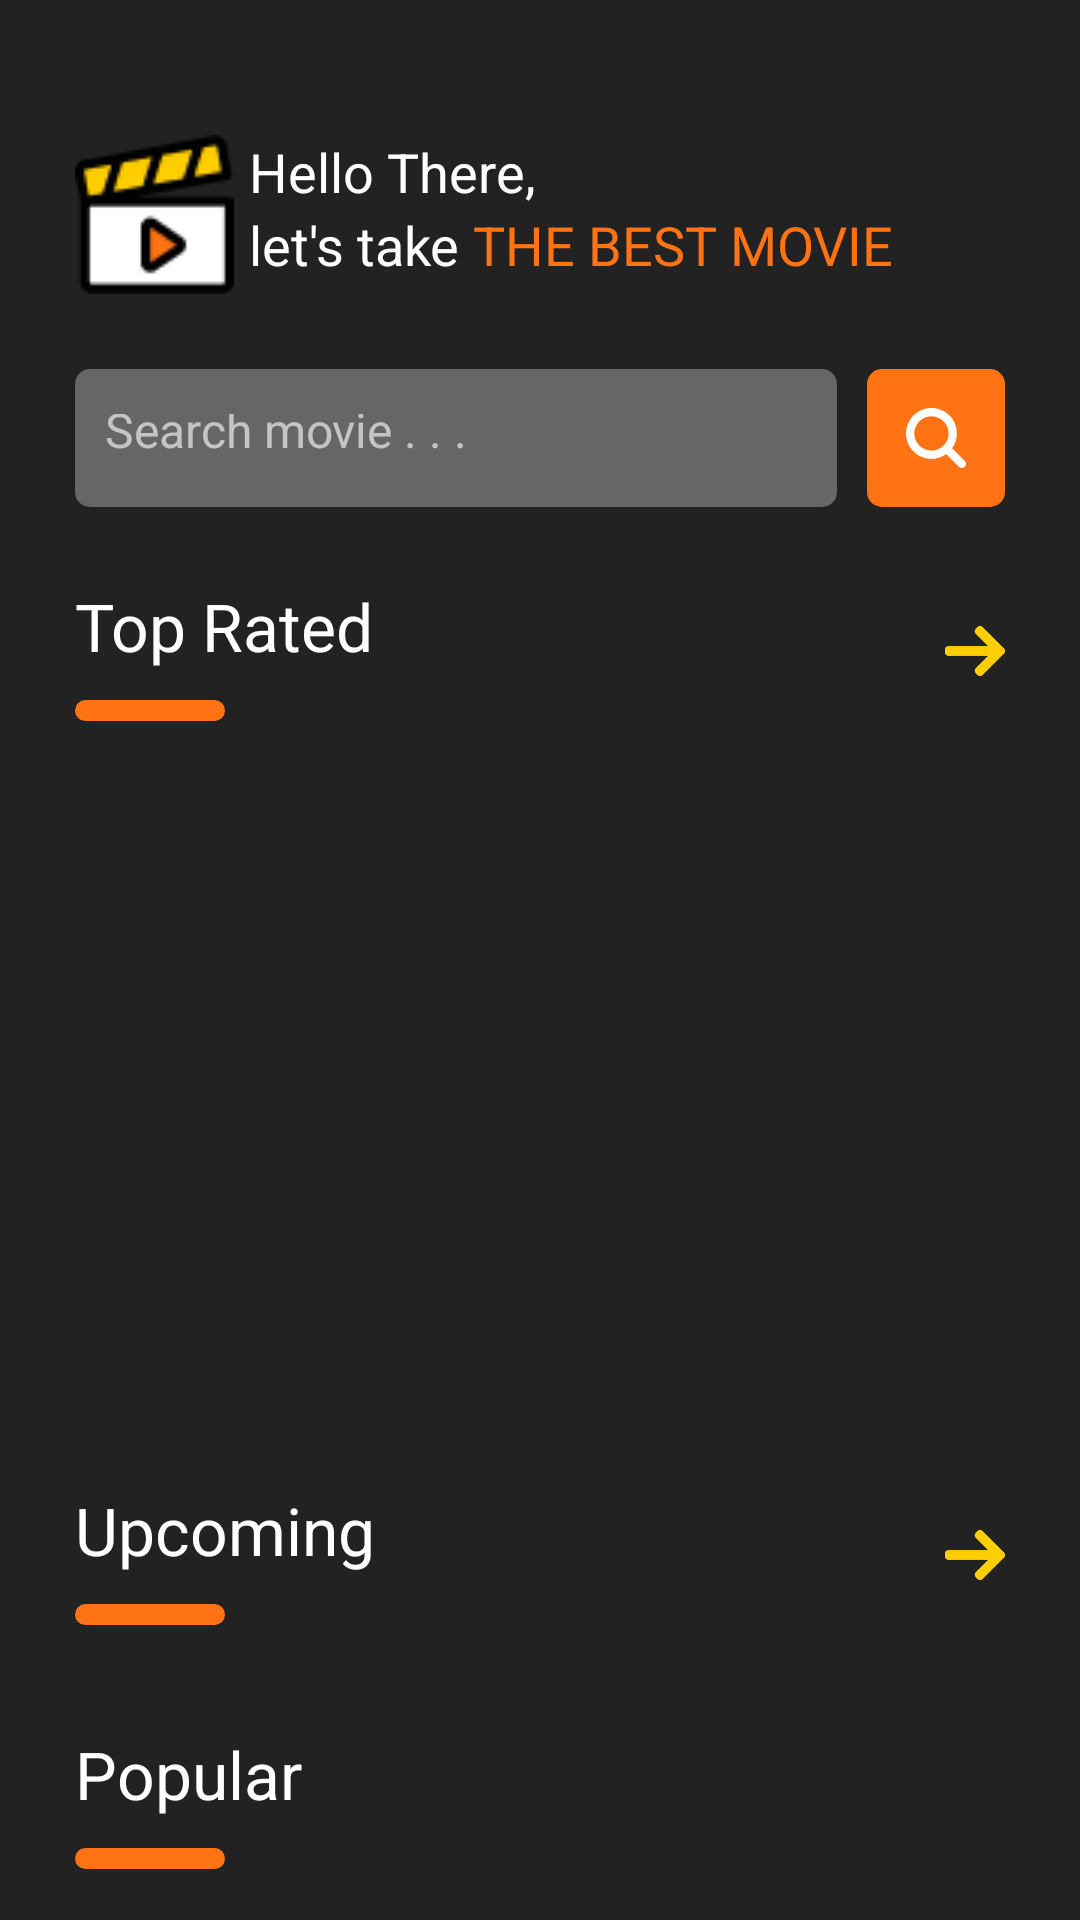

Where to tap for icons on this 1080 × 1920 app screen, as (x=x, y=y):
right arrow: (x=975, y=651), (x=975, y=1555)
